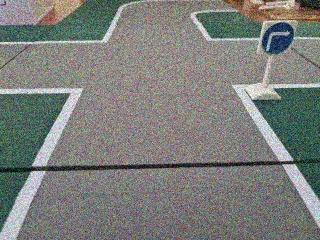right: (258, 17, 297, 61)
